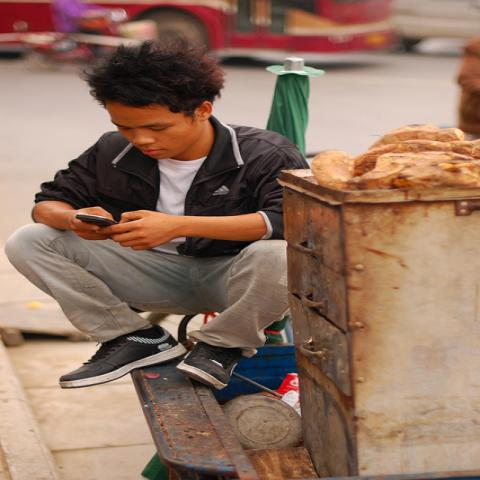bus: (1, 0, 400, 66)
truck: (2, 2, 393, 64)
